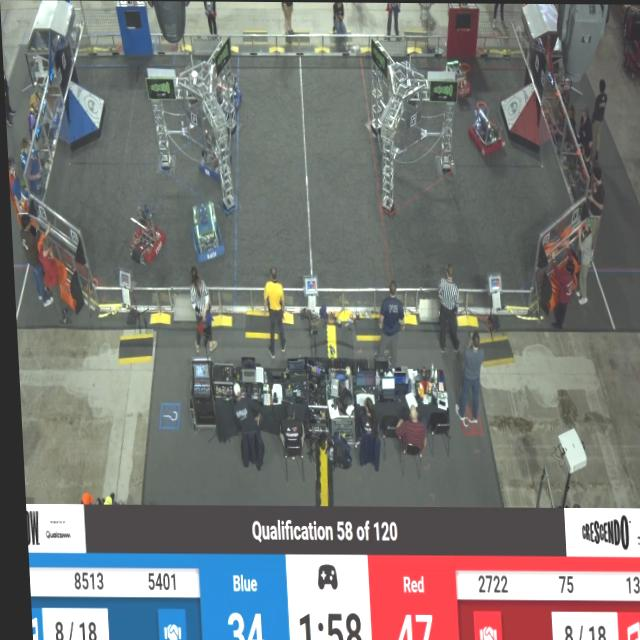Robot: (125, 200, 167, 269), (185, 200, 223, 265), (195, 124, 234, 184), (466, 98, 503, 160), (206, 65, 249, 114), (440, 54, 474, 101)
